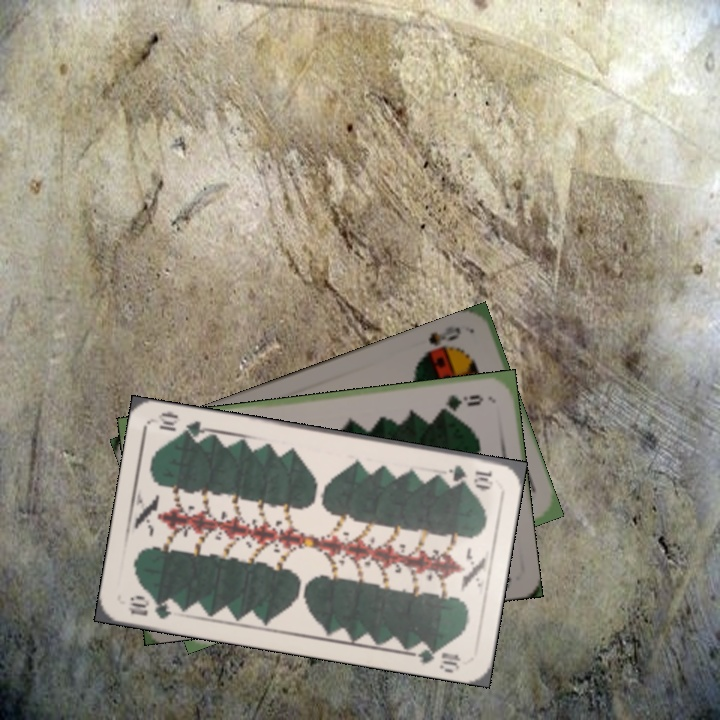G10: (124, 592, 174, 622), (445, 461, 496, 490)
G9: (436, 390, 486, 413)
SO: (415, 322, 464, 362)
